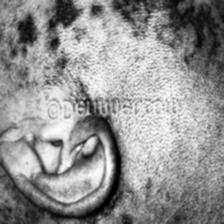Potentially Malignant Skin Tumors: (44, 0, 223, 56)
